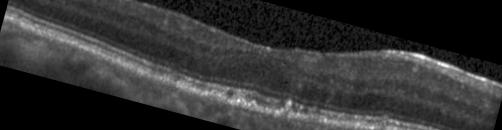retinal_drusen: (203, 91, 229, 104), (231, 94, 247, 108), (302, 116, 326, 124), (277, 108, 291, 121), (378, 120, 387, 129), (248, 102, 256, 110), (270, 109, 275, 117)
